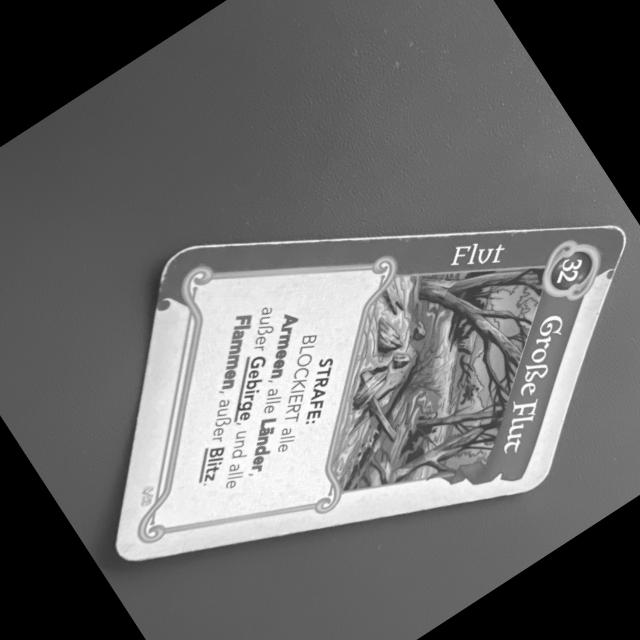Great Flood: (111, 220, 633, 562)
